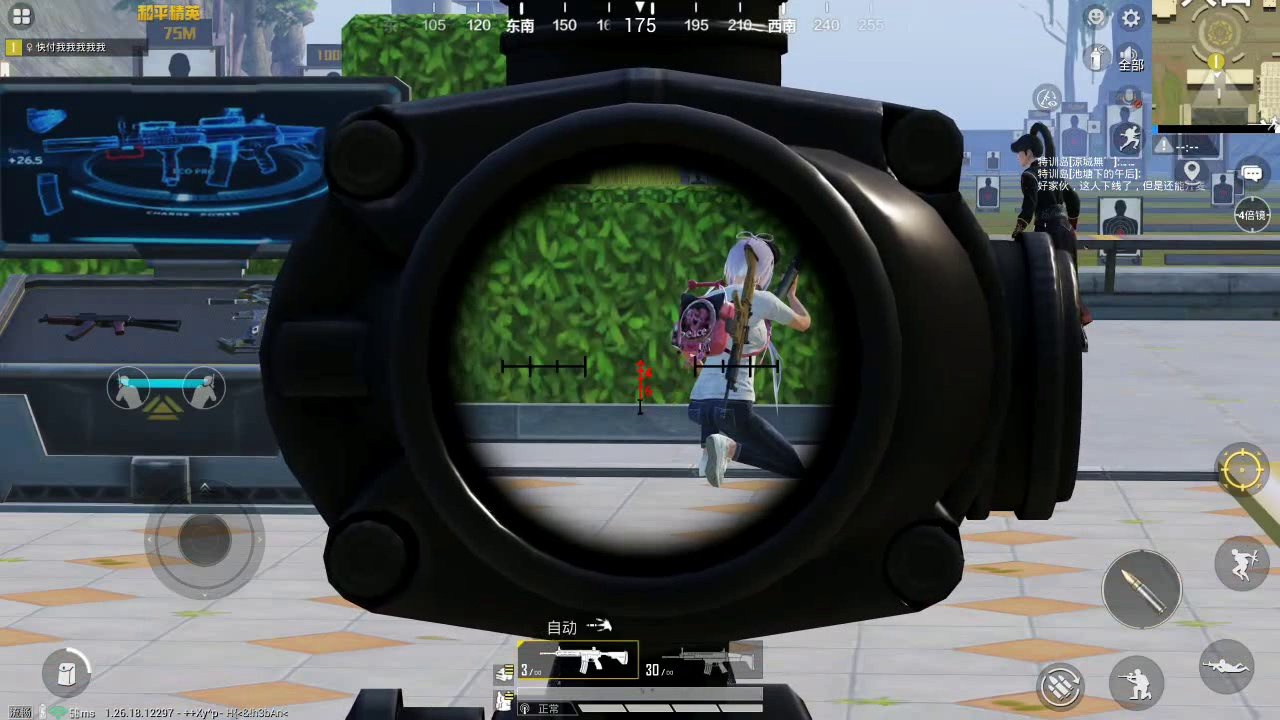enemy: (679, 233, 802, 476), (1007, 123, 1092, 347)
